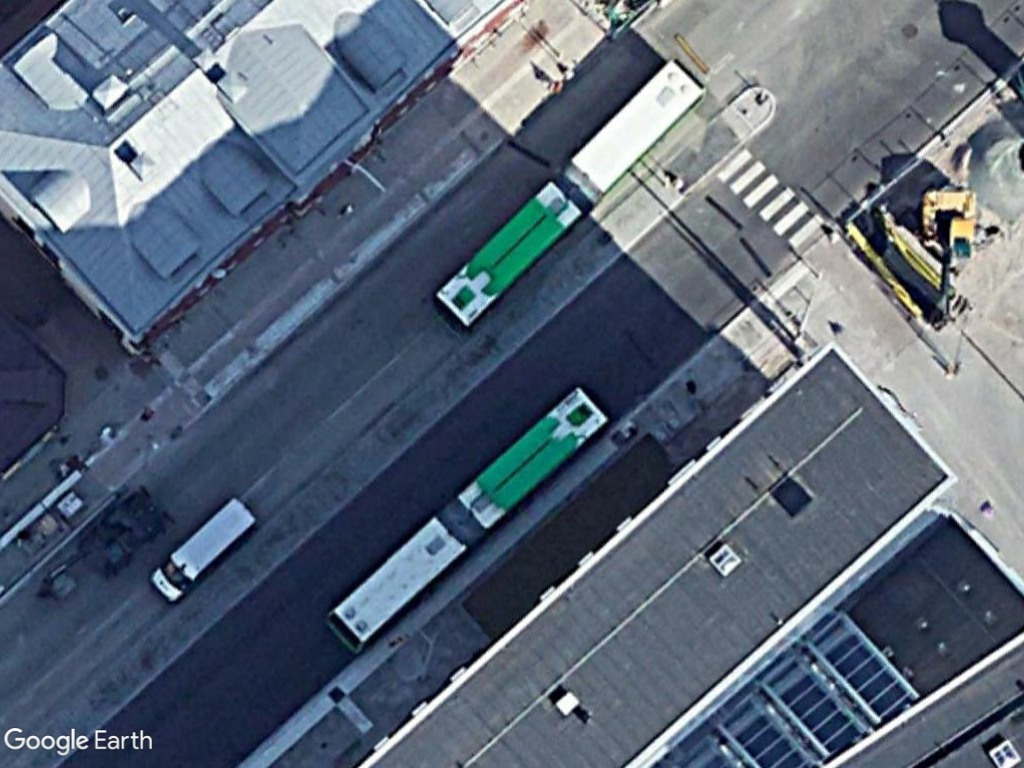bus: (316, 507, 474, 663), (425, 179, 585, 332), (450, 379, 605, 531)
van: (144, 485, 261, 606)
